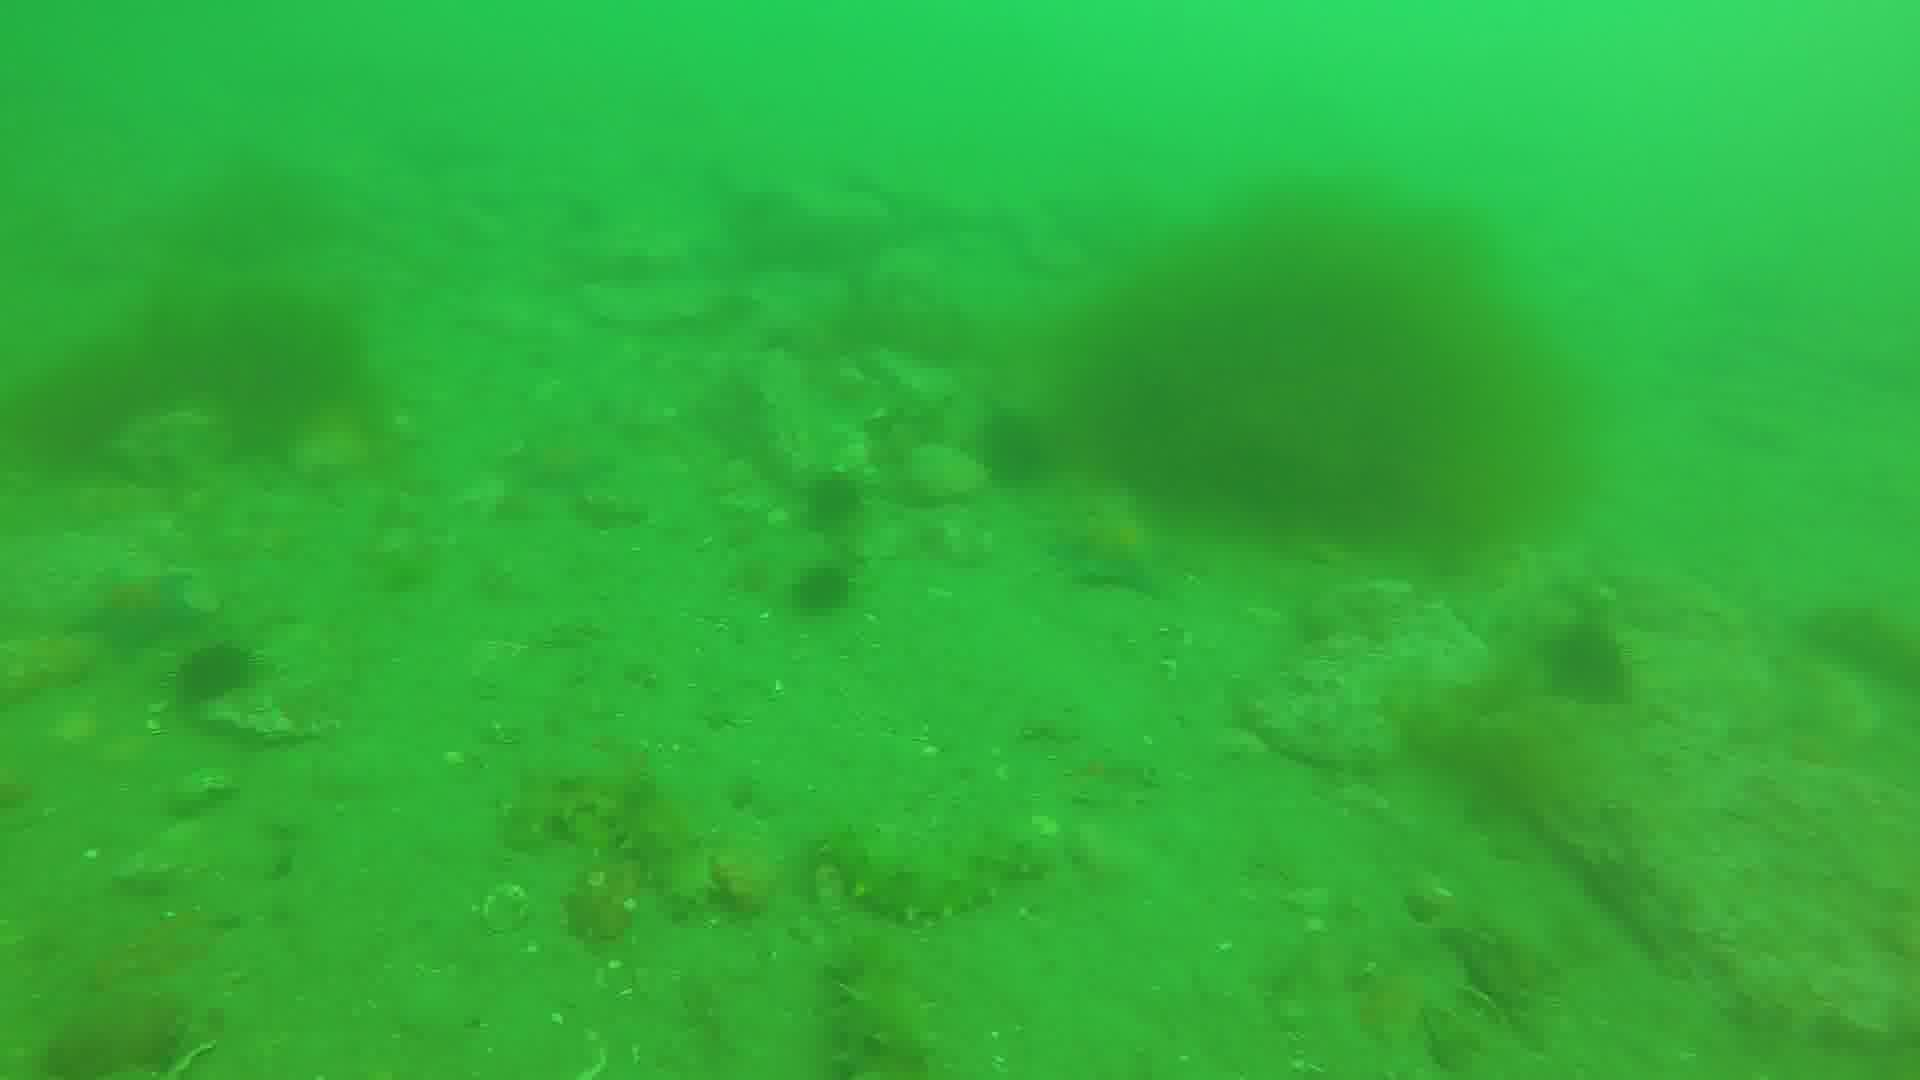echinus: (1557, 613, 1635, 702), (981, 409, 1056, 493), (185, 640, 253, 704), (793, 556, 861, 615), (804, 467, 869, 527)
holothurian: (525, 748, 712, 913), (818, 824, 1029, 927), (835, 940, 942, 1075)
starfish: (1048, 485, 1178, 593), (76, 571, 204, 659)
